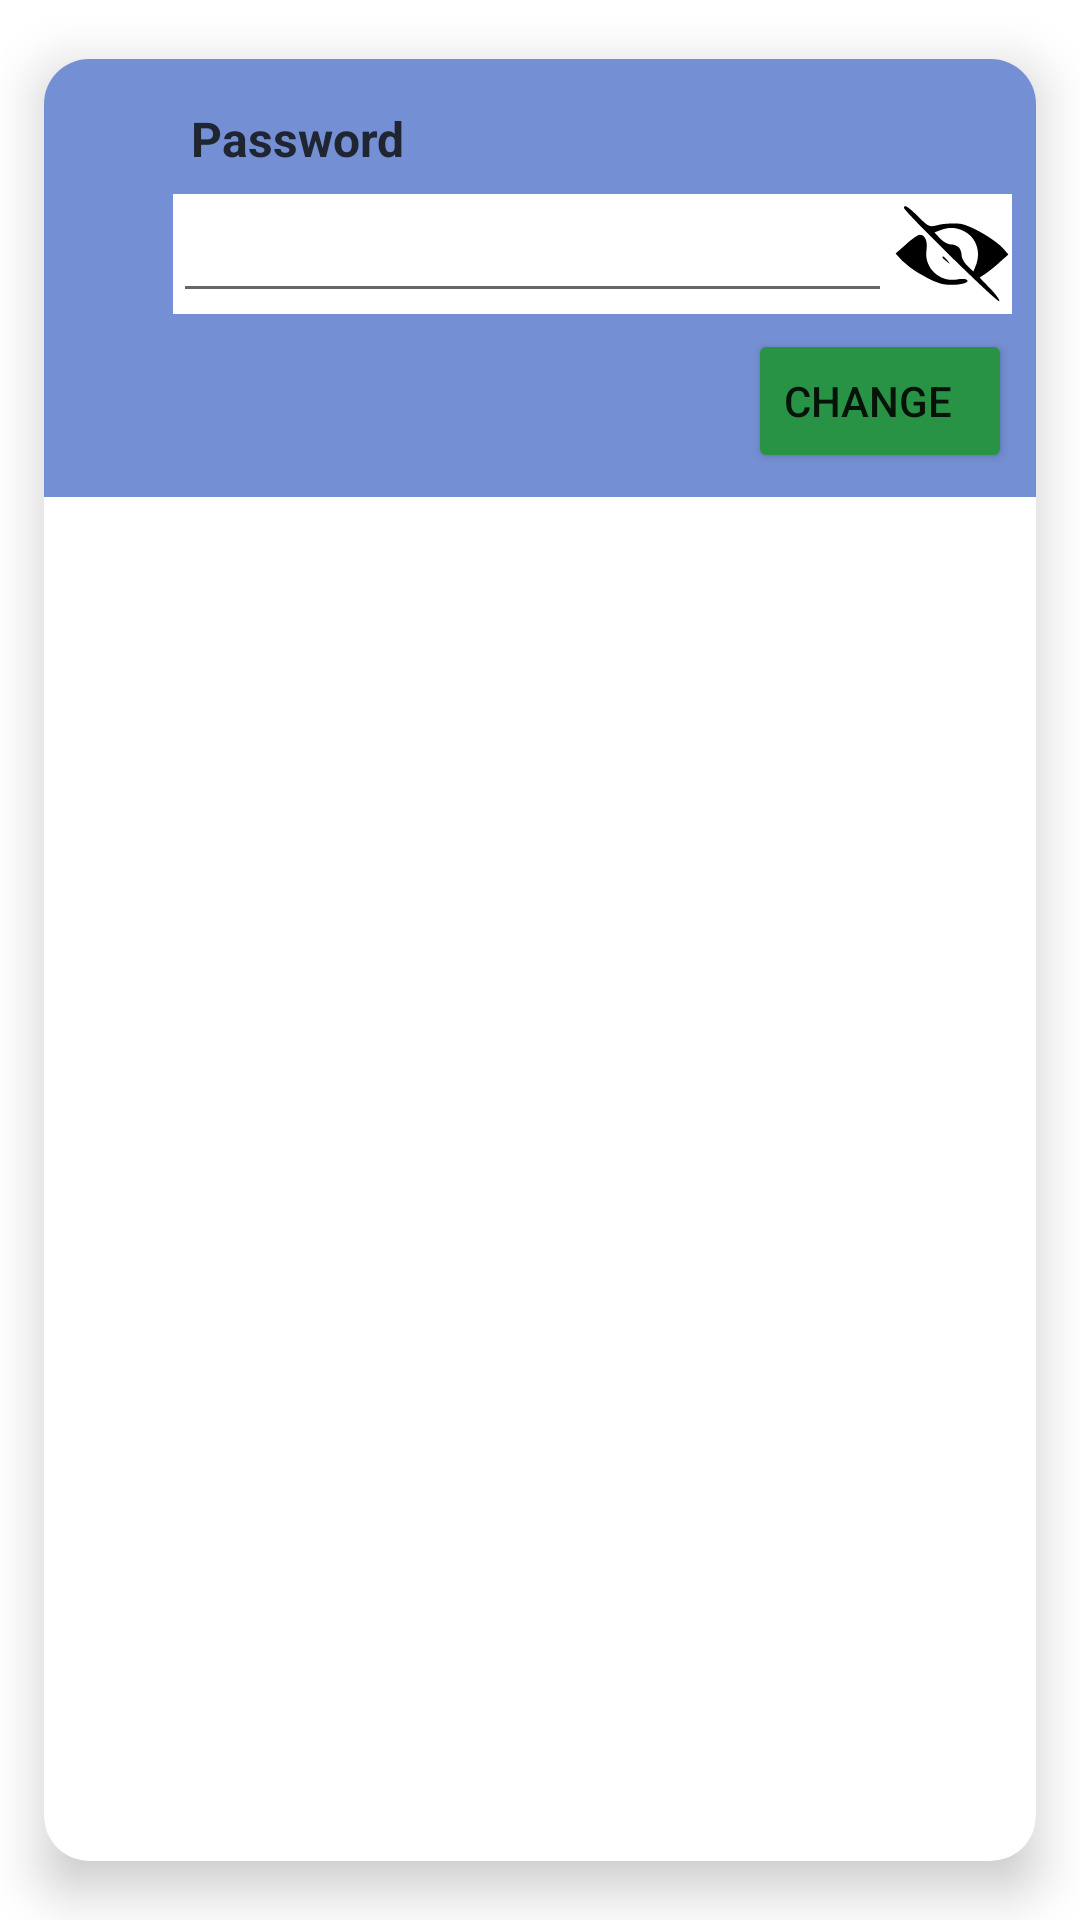

Named icons in this screenshot (1080px x 1920px) and their centers, (x,y):
hide password: (952,254)
